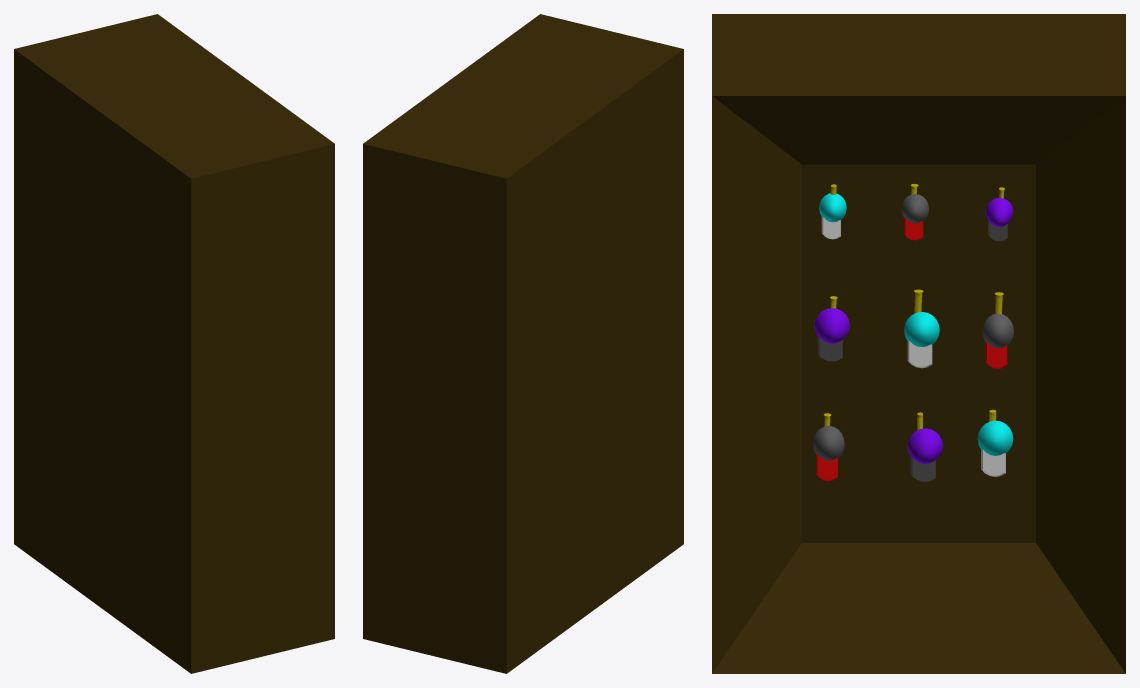
File: HatDisplay2.fbx
The picture shows the model from 3 angles, left to right: view 1: azimuth 30°, elevation 25°; view 2: azimuth 150°, elevation 25°; view 3: azimuth 270°, elevation 25°; orthographic projection. The views are drawn at different scales.
Parts seen in each view (by area): view 1: hatdisplay2mb:polySurface141; view 2: hatdisplay2mb:polySurface141; view 3: hatdisplay2mb:polySurface141.
Boxes of the visible parts, x1=… form: hatdisplay2mb:polySurface141: x1=14, y1=14, x2=334, y2=673; hatdisplay2mb:polySurface141: x1=363, y1=14, x2=683, y2=673; hatdisplay2mb:polySurface141: x1=712, y1=14, x2=1125, y2=673.
Bounding box in the file's own units: 1.72 × 5.68 × 3.69.
